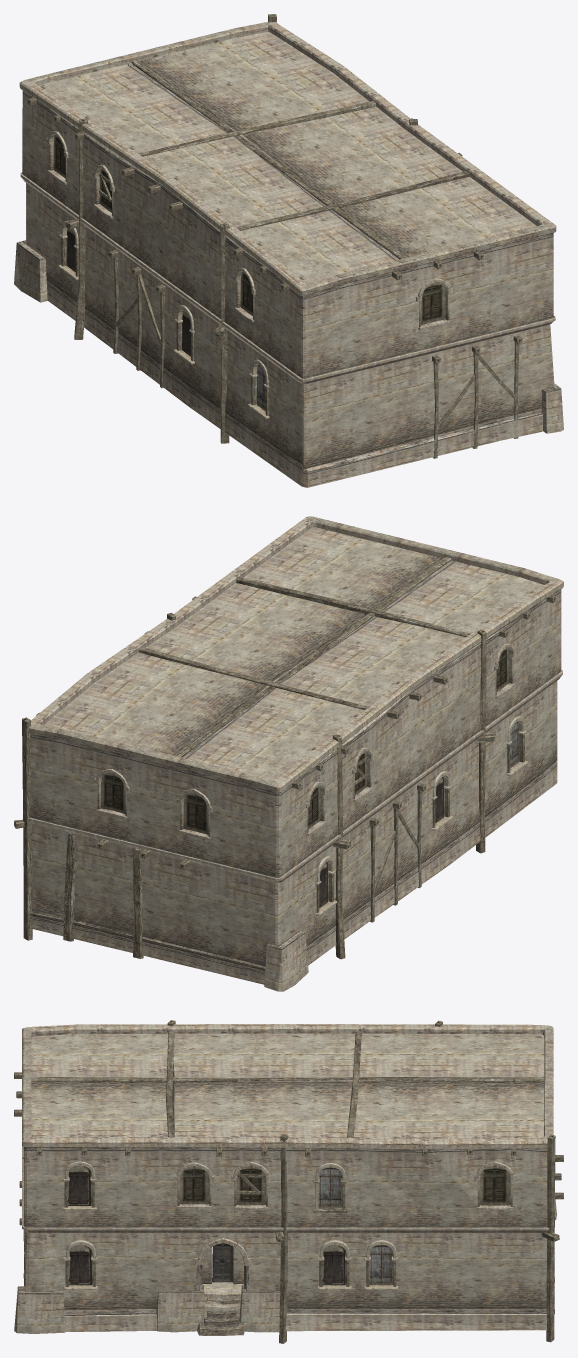
The model's file is TW2_5_HOUSE_01_20-transformed.glb.
The picture shows the model from 3 angles, top to bottom: view 1: azimuth 30°, elevation 25°; view 2: azimuth 150°, elevation 25°; view 3: azimuth 270°, elevation 25°; orthographic projection. The views are drawn at different scales.
Parts seen in each view (by area): view 1: default; view 2: default; view 3: default.
Part boxes in pixels (left/top/right/bottom): default: left=14, top=14, right=563, bottom=487; default: left=14, top=516, right=563, bottom=991; default: left=14, top=1020, right=563, bottom=1343.
Bounding box in the file's own units: 14.93 × 11.21 × 27.3.
Materials: 3 (3 with a texture image).
